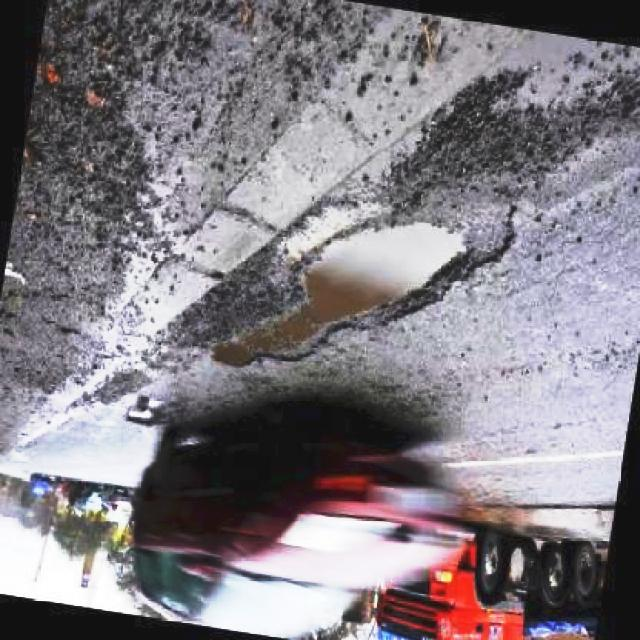pothole: (211, 163, 563, 369)
